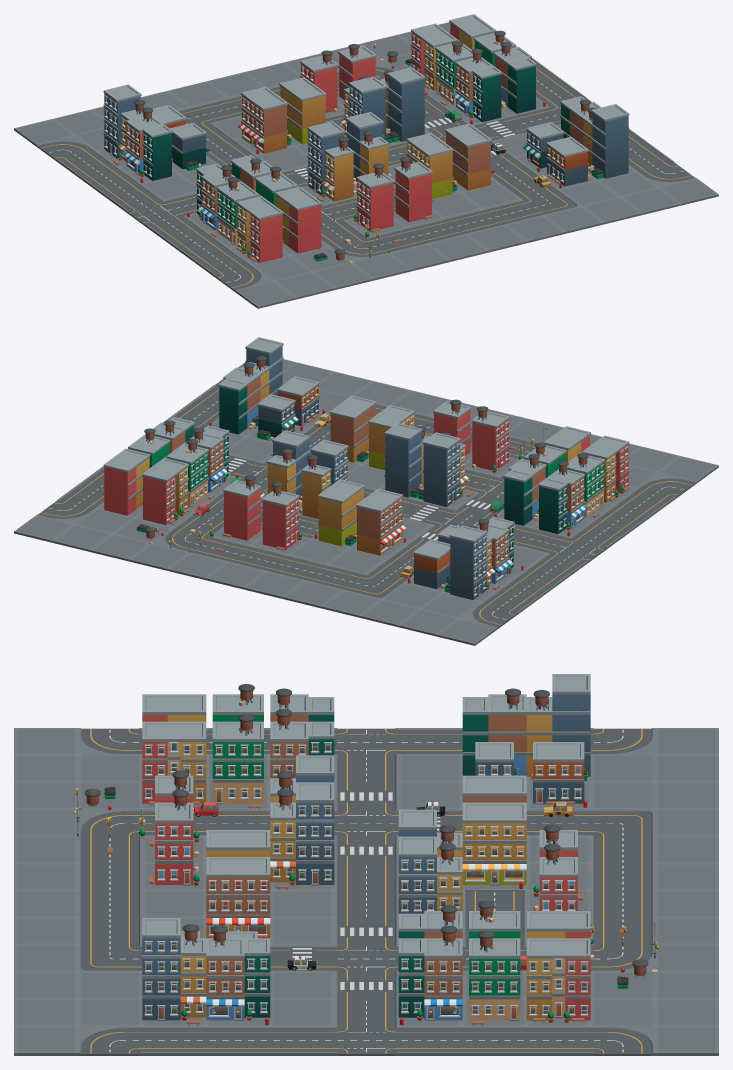
Rendered from World.glb.
3 views of the same model, one above another, from view 1: azimuth 30°, elevation 25°; view 2: azimuth 150°, elevation 25°; view 3: azimuth 270°, elevation 25° (orthographic). The views are drawn at different scales.
Parts seen in each view (by area): view 1: building_H-col, building_H.004-col, building_G.001-col, building_G.003-col, building_E.001-col, building_F.001-col, building_H.003-col, building_F-col, building_E.003-col, building_G.005-col, building_C-col, building_C.001-col (+76 smaller); view 2: building_H-col, building_H.001-col, building_G.002-col, building_E.001-col, building_F.002-col, building_H.002-col, building_G.004-col, building_E-col, building_F.003-col, building_C.003-col, building_C-col, building_G-col (+73 smaller); view 3: building_H.002-col, building_H.004-col, building_G.004-col, building_G.005-col, building_E-col, building_F.003-col, building_D.003-col, building_D-col, building_E.003-col, building_H.003-col, building_H.001-col, building_C.001-col (+98 smaller).
Part boxes in pixels (bbox=[...]): building_H-col: bbox=[302, 121, 357, 204]; building_H.004-col: bbox=[582, 104, 635, 180]; building_G.001-col: bbox=[119, 107, 179, 183]; building_G.003-col: bbox=[449, 48, 508, 124]; building_E.001-col: bbox=[234, 86, 294, 155]; building_F.001-col: bbox=[230, 196, 289, 264]; building_H.003-col: bbox=[379, 67, 429, 143]; building_F-col: bbox=[275, 186, 328, 255]; building_E.003-col: bbox=[445, 123, 498, 192]; building_G.005-col: bbox=[493, 41, 546, 115]; building_C-col: bbox=[345, 163, 405, 236]; building_C.001-col: bbox=[393, 156, 443, 227]; building_H-col: bbox=[416, 432, 476, 508]; building_H.001-col: bbox=[443, 525, 502, 601]; building_G.002-col: bbox=[531, 460, 591, 536]; building_E.001-col: bbox=[350, 488, 409, 557]; building_F.002-col: bbox=[135, 458, 194, 526]; building_H.002-col: bbox=[380, 423, 429, 499]; building_G.004-col: bbox=[209, 362, 261, 436]; building_E-col: bbox=[311, 479, 364, 548]; building_F.003-col: bbox=[97, 448, 150, 517]; building_C.003-col: bbox=[250, 481, 310, 554]; building_C-col: bbox=[465, 406, 518, 476]; building_G-col: bbox=[494, 453, 546, 527]; building_H.002-col: bbox=[270, 782, 334, 890]; building_H.004-col: bbox=[142, 918, 206, 1025]; building_G.004-col: bbox=[206, 925, 270, 1025]; building_G.005-col: bbox=[398, 925, 462, 1025]; building_E-col: bbox=[462, 802, 526, 891]; building_F.003-col: bbox=[526, 938, 590, 1025]; building_D.003-col: bbox=[462, 930, 526, 1025]; building_D-col: bbox=[206, 714, 270, 809]; building_E.003-col: bbox=[206, 857, 270, 938]; building_H.003-col: bbox=[398, 836, 462, 913]; building_H.001-col: bbox=[526, 674, 590, 781]; building_C.001-col: bbox=[142, 789, 206, 890].
Bounding box in the file's own units: 24 × 3.05 × 22.
Materials: 1 (1 with a texture image).
